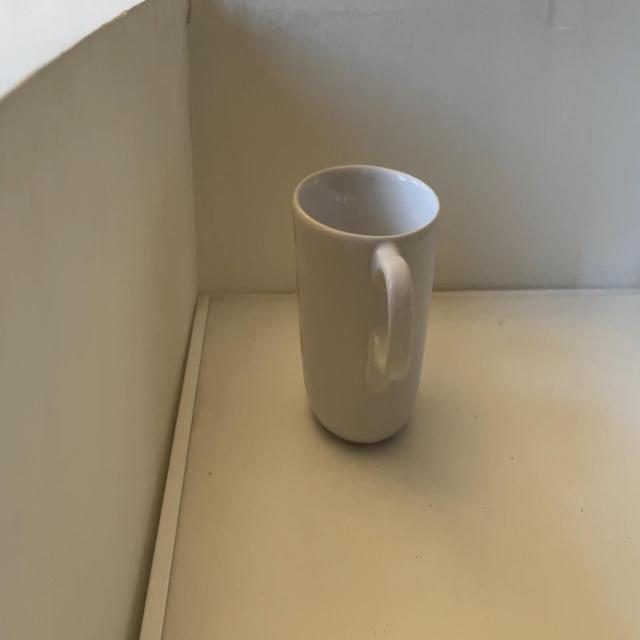cup: (291, 160, 442, 448)
